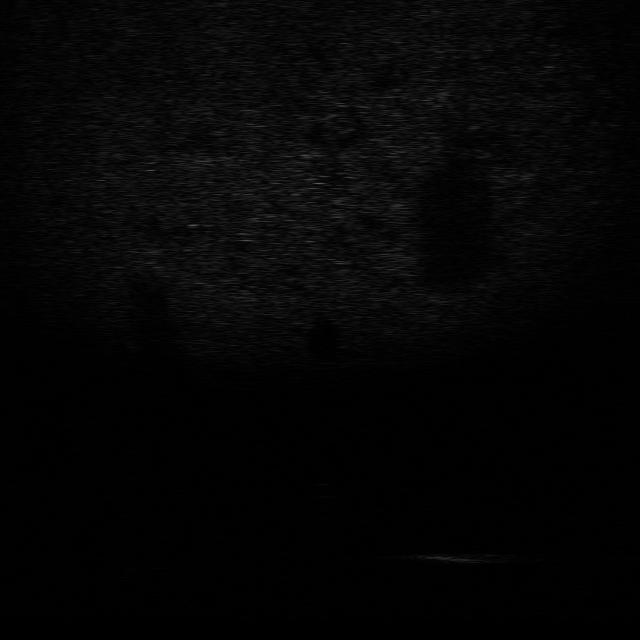ball: (308, 479, 338, 500)
metal bucket: (410, 544, 525, 569)
tyre: (120, 554, 178, 585)
